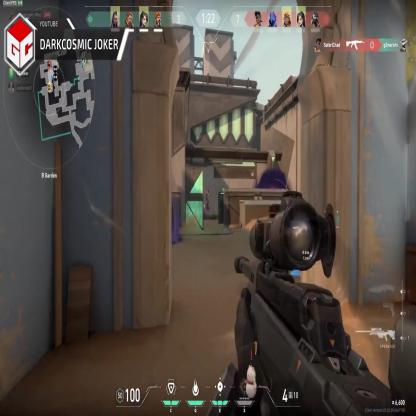enemy: (204, 190, 210, 212)
enemy_head: (207, 190, 209, 193)
